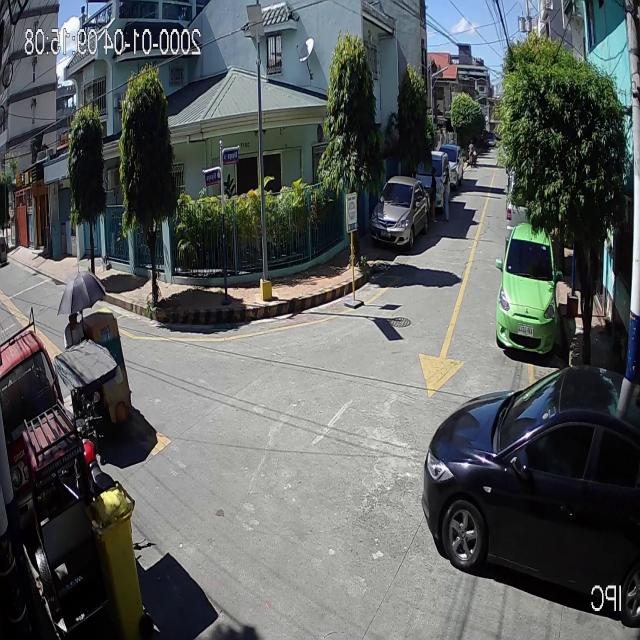standing: (440, 166, 451, 221), (429, 166, 439, 223)
